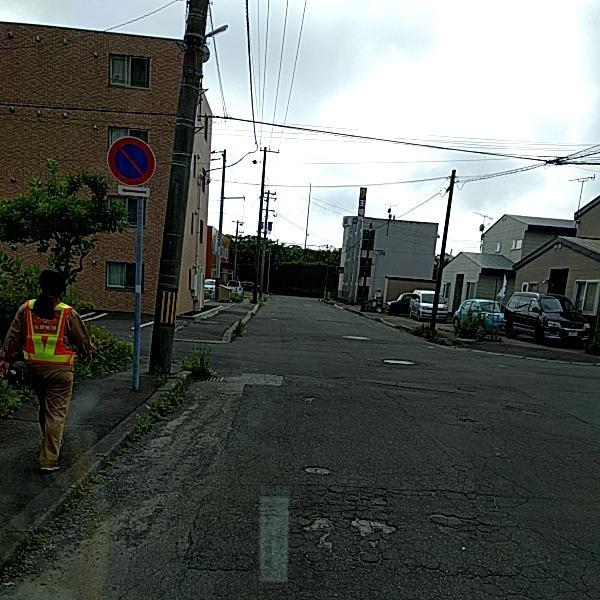pothole: (298, 513, 336, 550), (421, 513, 483, 533), (350, 516, 394, 535), (301, 464, 332, 473)
